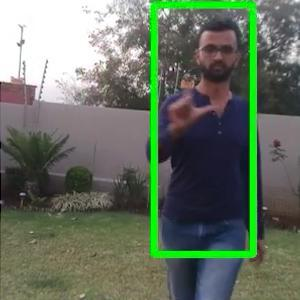land_hand: (161, 67, 221, 131)
